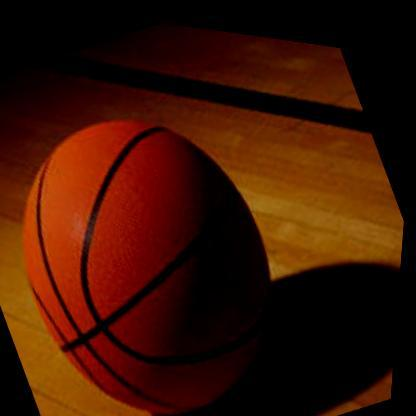basketball: (0, 61, 332, 416)
